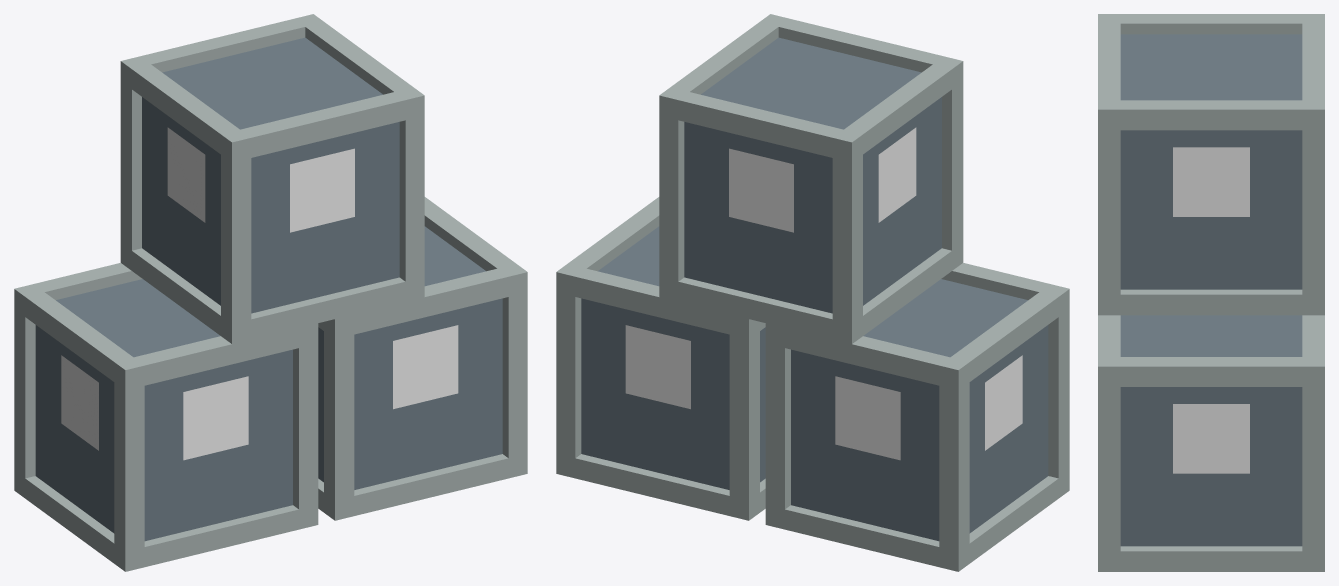
File: Crates 2.fbx
3 renders of one model, left to right at view 1: azimuth 30°, elevation 25°; view 2: azimuth 150°, elevation 25°; view 3: azimuth 270°, elevation 25°, orthographic.
Visible parts, largest first — view 1: Crates; view 2: Crates; view 3: Crates.
Part boxes in pixels (x1,y1,x2,y2): Crates: (14, 14, 527, 571); Crates: (556, 14, 1069, 571); Crates: (1098, 14, 1324, 571).
Bounding box in the file's own units: 209 × 200 × 100.
